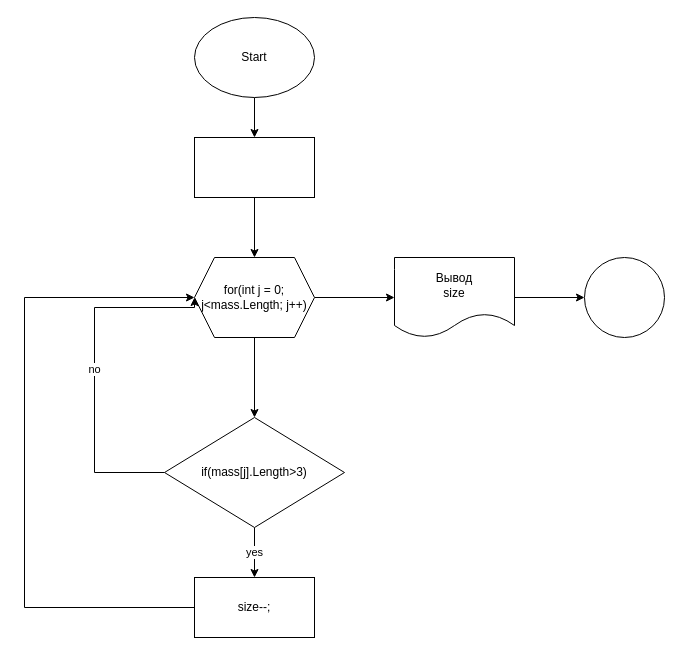
The diagram is 682 pixels wide and 655 high, and some of its shapes have lost their labels. The centre of each missing label's shape, as x and y in pixels:
"end" belongs at (624,297).
"string[] mass out int size size = mass.Length" belongs at (254,167).
